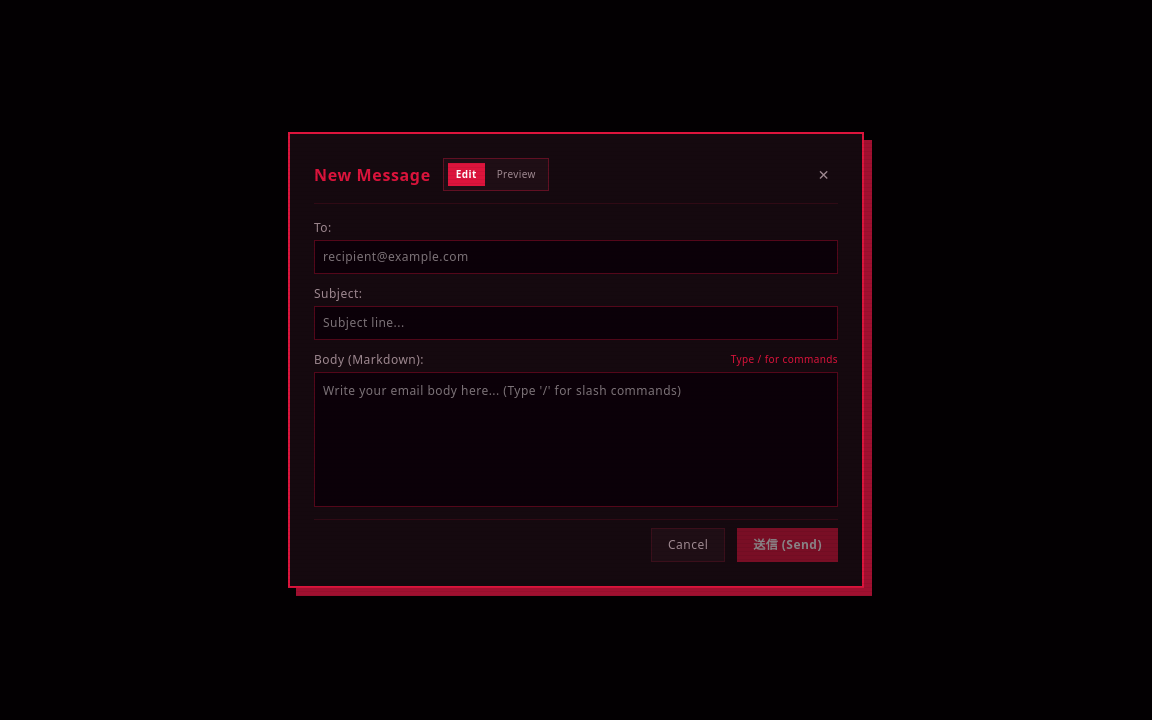
Test: MailComposeModal Component › Tier 2: Boundary & Edge Cases › disables send button when to or subject field is empty
expect the button with test id "compose-send-button" is disabled: met, box left=737, top=528, right=838, bottom=562
Type "test@example.com" into the field with test id "compose-to-input" at (576, 257), box left=314, top=240, right=838, bottom=274
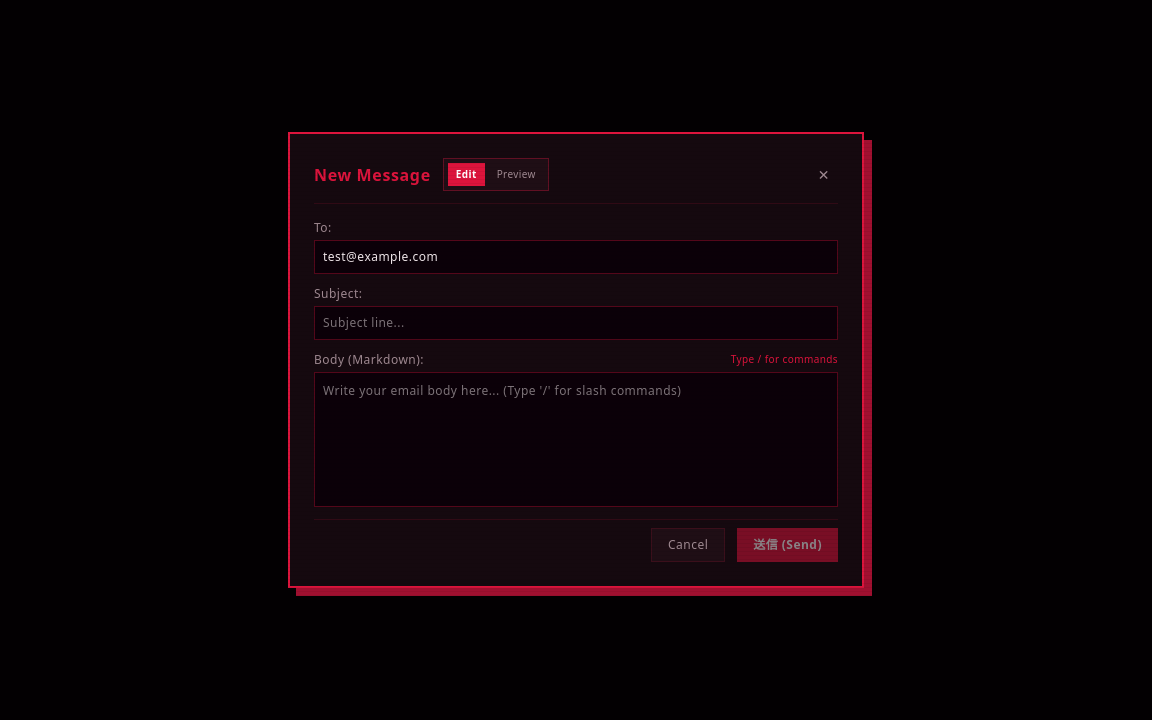
expect the button with test id "compose-send-button" is disabled: met, box left=737, top=528, right=838, bottom=562
Type "Subject" into the field with test id "compose-subject-input" at (576, 323), box left=314, top=306, right=838, bottom=340
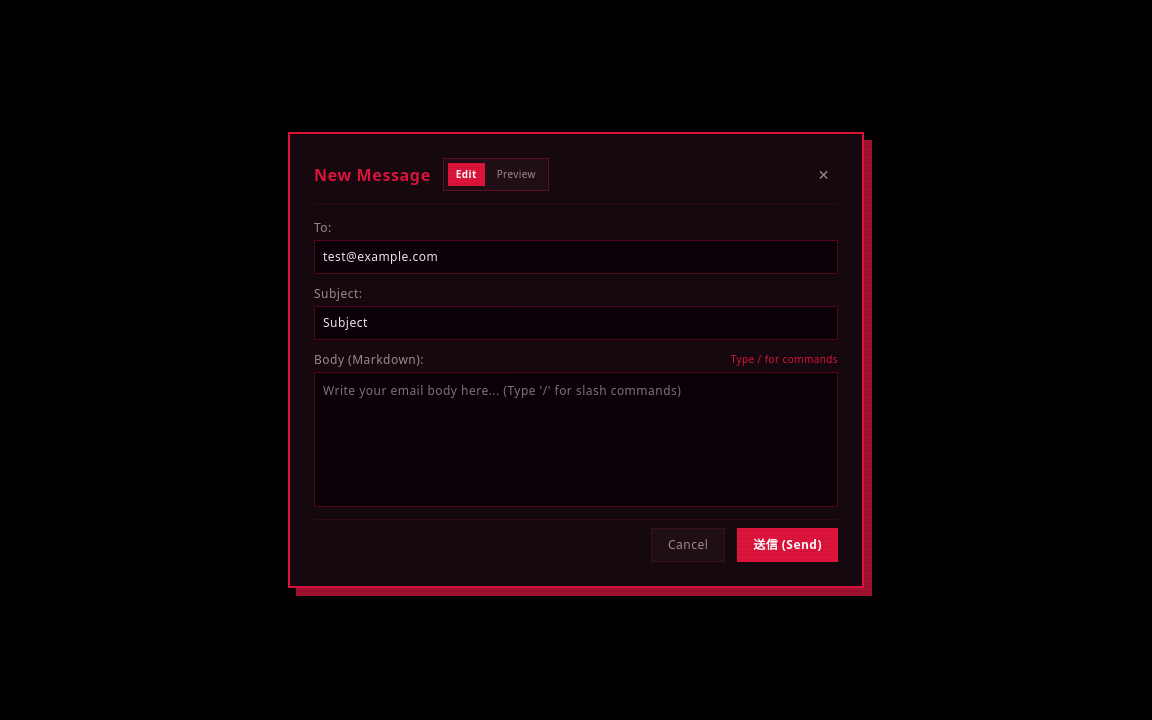
expect the button with test id "compose-send-button" is enabled: met, box left=737, top=528, right=838, bottom=562
